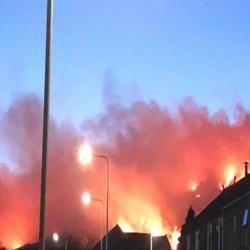fire: (118, 203, 167, 233)
